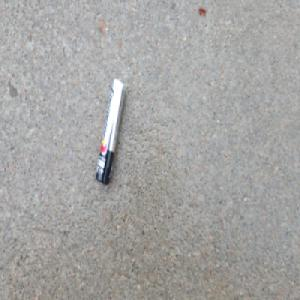Battery: (94, 77, 126, 185)
